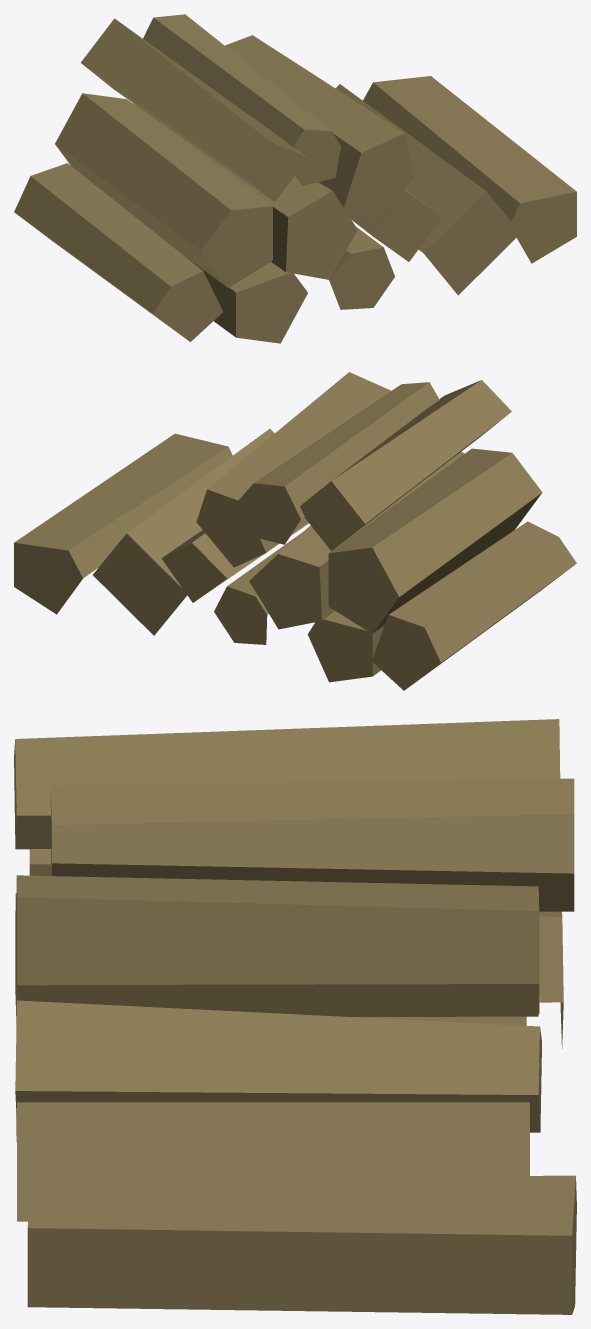
File: woodpile_02.fbx
The picture shows the model from 3 angles, top to bottom: view 1: azimuth 30°, elevation 25°; view 2: azimuth 150°, elevation 25°; view 3: azimuth 270°, elevation 25°; orthographic projection. The views are drawn at different scales.
Visible parts, largest first — view 1: woodpile_02; view 2: woodpile_02; view 3: woodpile_02.
Part boxes in pixels (x1=…): woodpile_02: x1=14, y1=14, x2=576, y2=343; woodpile_02: x1=14, y1=372, x2=576, y2=690; woodpile_02: x1=14, y1=719, x2=576, y2=1314.
Bounding box in the file's own units: 2.6 × 1.25 × 1.69.
